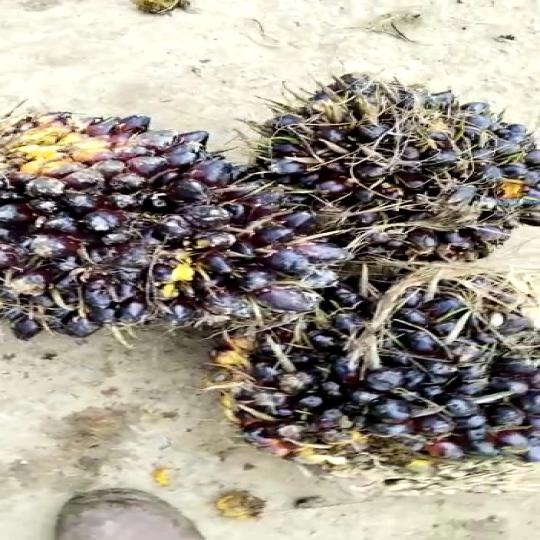mentah: (7, 94, 340, 342), (203, 261, 540, 468), (249, 61, 540, 263)
